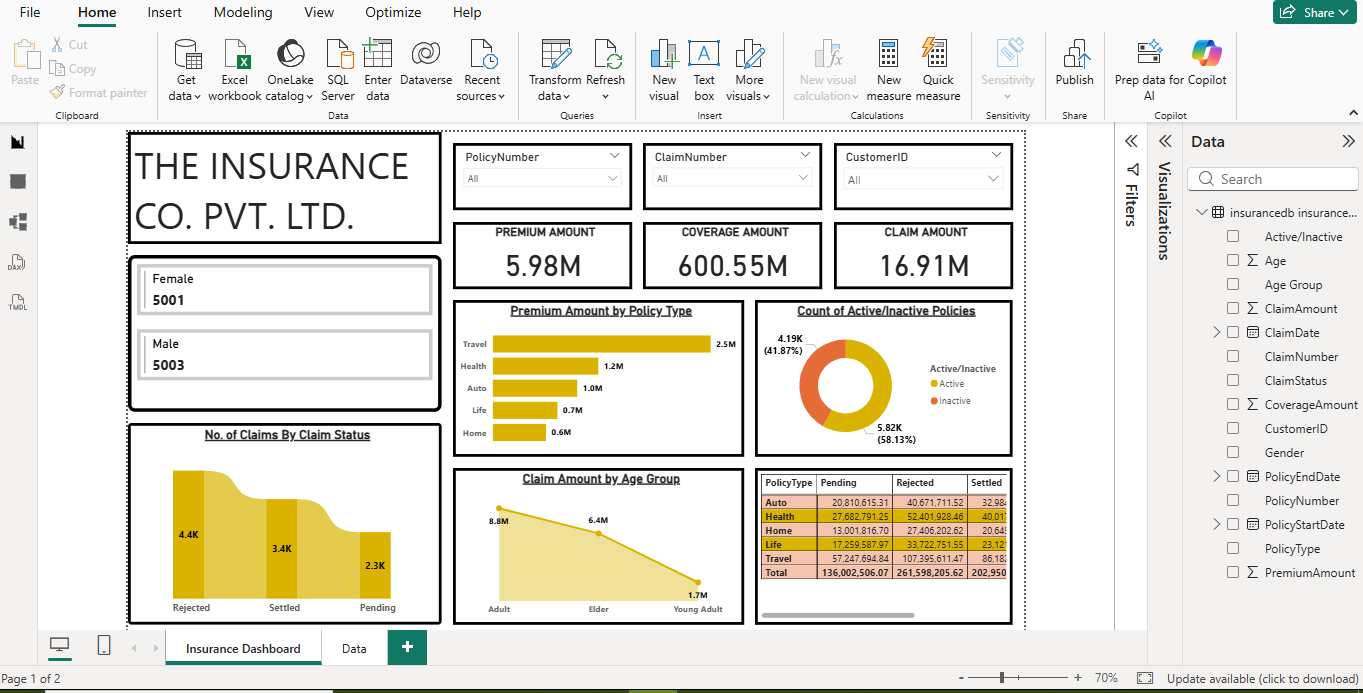

The page's visual inventory and layout, read from the dashboard file:
{"tool":"powerbi","page":{"name":"Insurance Dashboard","canvas":[1280,720],"ordinal":0},"visuals":[{"type":"slicer","fields":{"Values":["insurancedb insurance_data.ClaimNumber"]},"box":[736,16,256,96],"z":0},{"type":"slicer","fields":{"Values":["insurancedb insurance_data.CustomerID"]},"box":[1008,16,256,96],"z":1000},{"type":"slicer","fields":{"Values":["insurancedb insurance_data.PolicyNumber"]},"box":[464,16,256,96],"z":2000},{"type":"textbox","box":[0,0,448,160],"z":3000},{"type":"card","title":"PREMIUM AMOUNT","fields":{"Values":["Sum(insurancedb insurance_data.PremiumAmount)"]},"box":[464,128,256,96],"z":4000},{"type":"card","title":"COVERAGE AMOUNT","fields":{"Values":["Sum(insurancedb insurance_data.CoverageAmount)"]},"box":[736,128,256,96],"z":5000},{"type":"card","title":"CLAIM AMOUNT","fields":{"Values":["Sum(insurancedb insurance_data.ClaimAmount)"]},"box":[1008,128,256,96],"z":6000},{"type":"multiRowCard","fields":{"Values":["insurancedb insurance_data.Gender","CountNonNull(insurancedb insurance_data.Gender)"]},"box":[0,176,448,224],"z":7000},{"type":"ribbonChart","title":"No. of Claims By Claim Status","fields":{"Category":["insurancedb insurance_data.ClaimStatus"],"Y":["CountNonNull(insurancedb insurance_data.ClaimStatus)"]},"box":[0,416,448,288],"z":8000},{"type":"barChart","title":"Premium Amount by Policy Type","fields":{"Category":["insurancedb insurance_data.PolicyType"],"Y":["Sum(insurancedb insurance_data.PremiumAmount)"]},"box":[464,240,416,224],"z":9000},{"type":"lineChart","title":"Claim Amount by Age Group","fields":{"Category":["insurancedb insurance_data.Age Group"],"Y":["Sum(insurancedb insurance_data.ClaimAmount)"]},"box":[464,480,416,224],"z":10000},{"type":"donutChart","title":"Count of Active/Inactive Policies","fields":{"Category":["insurancedb insurance_data.Active/Inactive"],"Y":["CountNonNull(insurancedb insurance_data.Active/Inactive)"]},"box":[896,240,368,224],"z":11000},{"type":"pivotTable","fields":{"Rows":["insurancedb insurance_data.PolicyType"],"Columns":["insurancedb insurance_data.ClaimStatus"],"Values":["Sum(insurancedb insurance_data.CoverageAmount)"]},"box":[896,480,368,224],"z":11001}]}

Visuals, with their boxes on the page's 1280x720 design canvas (x1, y1, x2, y2). These are canvas units, not pixel positions in the 1363x693 screenshot, which may show the page scaled, cropped or inside an application window:
slicer - insurancedb insurance_data.ClaimNumber: [x1=736, y1=16, x2=992, y2=112]
slicer - insurancedb insurance_data.CustomerID: [x1=1008, y1=16, x2=1264, y2=112]
slicer - insurancedb insurance_data.PolicyNumber: [x1=464, y1=16, x2=720, y2=112]
textbox: [x1=0, y1=0, x2=448, y2=160]
"PREMIUM AMOUNT" card: [x1=464, y1=128, x2=720, y2=224]
"COVERAGE AMOUNT" card: [x1=736, y1=128, x2=992, y2=224]
"CLAIM AMOUNT" card: [x1=1008, y1=128, x2=1264, y2=224]
multiRowCard - insurancedb insurance_data.Gender x CountNonNull(insurancedb insurance_data.Gender): [x1=0, y1=176, x2=448, y2=400]
"No. of Claims By Claim Status" ribbonChart: [x1=0, y1=416, x2=448, y2=704]
"Premium Amount by Policy Type" barChart: [x1=464, y1=240, x2=880, y2=464]
"Claim Amount by Age Group" lineChart: [x1=464, y1=480, x2=880, y2=704]
"Count of Active/Inactive Policies" donutChart: [x1=896, y1=240, x2=1264, y2=464]
pivotTable - insurancedb insurance_data.PolicyType x insurancedb insurance_data.ClaimStatus: [x1=896, y1=480, x2=1264, y2=704]
